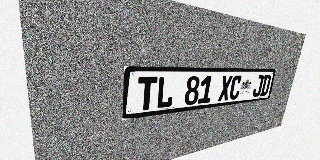1: (198, 76, 214, 104)
8: (184, 76, 201, 106)
C: (228, 75, 243, 100)
D: (260, 75, 272, 96)
J: (252, 75, 264, 97)
L: (156, 76, 175, 109)
T: (137, 77, 158, 111)
X: (218, 75, 233, 101)
